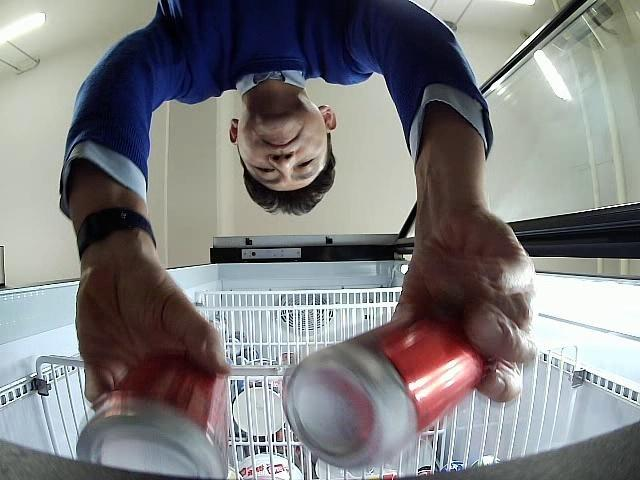11_cocaColaZero: (282, 310, 486, 472), (76, 356, 229, 479)
